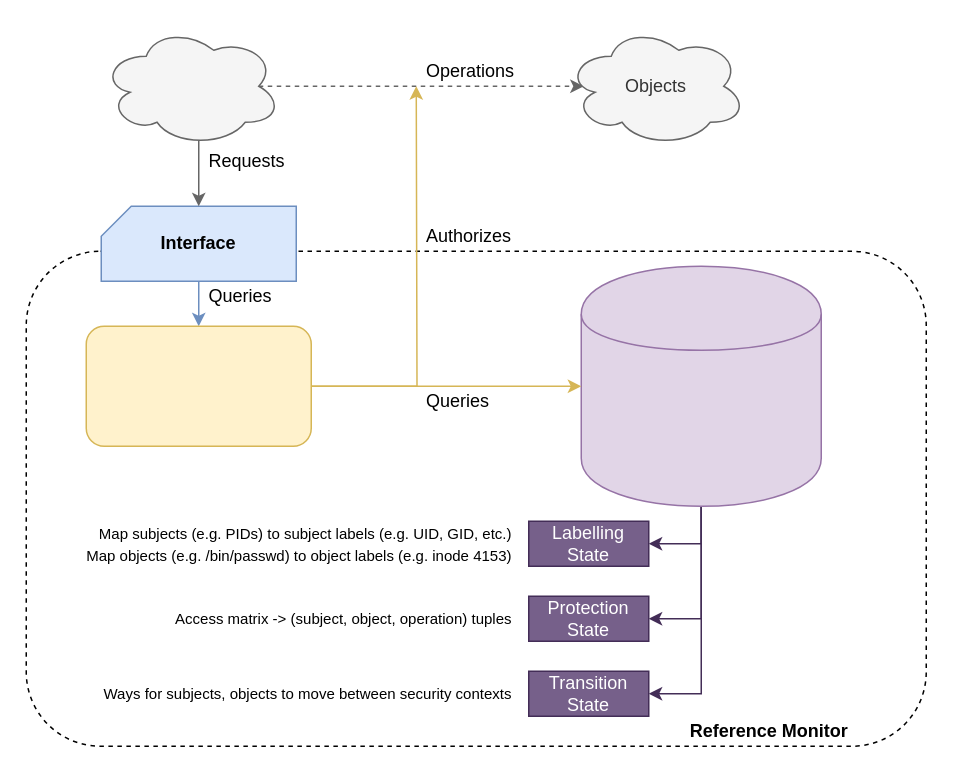
Some shapes in this 953 by 773 pixel diagram are drawn without their labels. The box of each missing label's shape, as (x1, y1, x2, y2) in pixels:
Authorization Module: (85, 325, 311, 446)
Policy Store: (580, 265, 821, 506)
Subjects: (100, 25, 281, 146)
